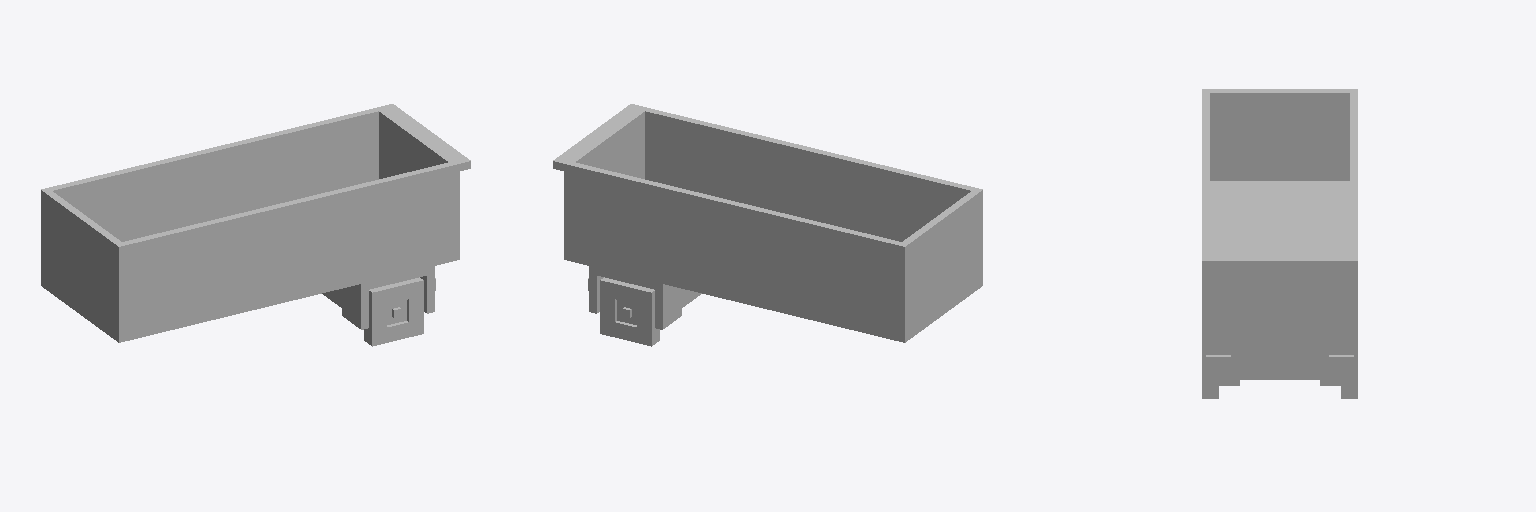
The model's file is alll cars3-131.obj.
3 views of the same model, side by side, from view 1: azimuth 30°, elevation 25°; view 2: azimuth 150°, elevation 25°; view 3: azimuth 270°, elevation 25° (orthographic).
Parts seen in each view (by area): view 1: object 1; view 2: object 1; view 3: object 1.
Boxes of the visible parts, x1=… form: object 1: x1=41, y1=104, x2=470, y2=346; object 1: x1=553, y1=104, x2=982, y2=346; object 1: x1=1202, y1=89, x2=1357, y2=398.
Size of the model in its own units: 9.6 by 4.2 by 3.7.